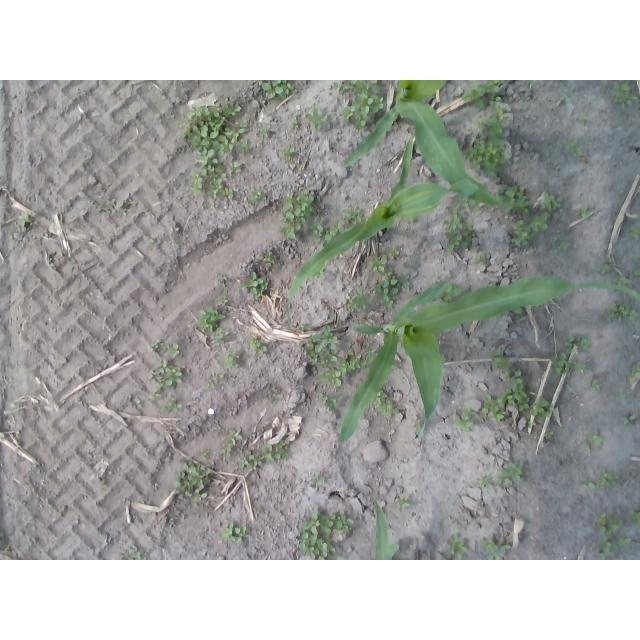Maize: (337, 275, 639, 449), (287, 137, 477, 323), (342, 81, 544, 208), (374, 500, 399, 560)
Weeds: (181, 104, 248, 156), (300, 509, 353, 560), (332, 80, 385, 130), (464, 120, 506, 179), (192, 155, 240, 197), (281, 188, 317, 240), (238, 439, 293, 470), (443, 196, 473, 252), (175, 461, 210, 504), (374, 268, 410, 309), (599, 526, 631, 560), (506, 369, 531, 411), (300, 341, 338, 367), (342, 347, 378, 374), (147, 359, 181, 385), (500, 186, 529, 215), (550, 353, 586, 374), (461, 81, 486, 111), (314, 324, 339, 352), (605, 303, 639, 323), (241, 272, 268, 297), (496, 461, 525, 484), (481, 539, 512, 560), (611, 82, 638, 106), (262, 81, 295, 100), (200, 308, 225, 333), (305, 104, 327, 132), (482, 395, 504, 422), (349, 290, 373, 313), (221, 348, 247, 369), (317, 368, 343, 388), (512, 220, 532, 246), (317, 393, 343, 412), (223, 523, 250, 541), (530, 399, 555, 418), (145, 384, 164, 408), (447, 534, 465, 559), (598, 468, 618, 488), (483, 348, 500, 370), (160, 398, 183, 414), (214, 328, 233, 347), (369, 255, 388, 274), (529, 213, 548, 232), (379, 400, 399, 418), (248, 186, 268, 204), (455, 413, 473, 431), (324, 222, 341, 241), (541, 194, 561, 210), (16, 210, 36, 226), (446, 283, 463, 301), (342, 207, 363, 221), (121, 548, 143, 561), (493, 107, 511, 122), (309, 217, 323, 236), (269, 387, 284, 404), (228, 427, 245, 442), (588, 431, 604, 446), (280, 146, 294, 163), (608, 517, 622, 532), (397, 496, 410, 511), (631, 361, 640, 382), (263, 255, 277, 268), (311, 472, 325, 485), (626, 225, 639, 239), (170, 343, 181, 359), (621, 414, 638, 424), (218, 444, 231, 457), (577, 206, 590, 219), (248, 336, 260, 350), (376, 391, 388, 405), (628, 511, 640, 525), (485, 80, 499, 92), (576, 339, 591, 350), (478, 476, 491, 488), (387, 245, 400, 257), (474, 250, 487, 262), (566, 138, 578, 150), (489, 94, 501, 106), (149, 340, 160, 353), (588, 380, 601, 390), (615, 276, 629, 285), (500, 359, 511, 370), (299, 322, 314, 330), (315, 269, 325, 281), (203, 382, 216, 391), (571, 147, 582, 157), (144, 237, 155, 247), (217, 297, 227, 307), (543, 427, 553, 437), (162, 343, 171, 354), (261, 128, 272, 137), (580, 481, 596, 487), (240, 140, 248, 152), (203, 448, 212, 458), (602, 263, 611, 273), (464, 405, 476, 412), (558, 243, 570, 250), (135, 398, 142, 409), (599, 513, 606, 524), (565, 336, 574, 344), (291, 120, 300, 128), (258, 346, 266, 354), (216, 373, 225, 380), (579, 114, 588, 121), (528, 423, 536, 430), (617, 392, 625, 399), (211, 203, 218, 210), (633, 254, 639, 262), (526, 80, 533, 86), (567, 348, 577, 352), (561, 93, 567, 99), (633, 270, 640, 275), (615, 508, 621, 512)
